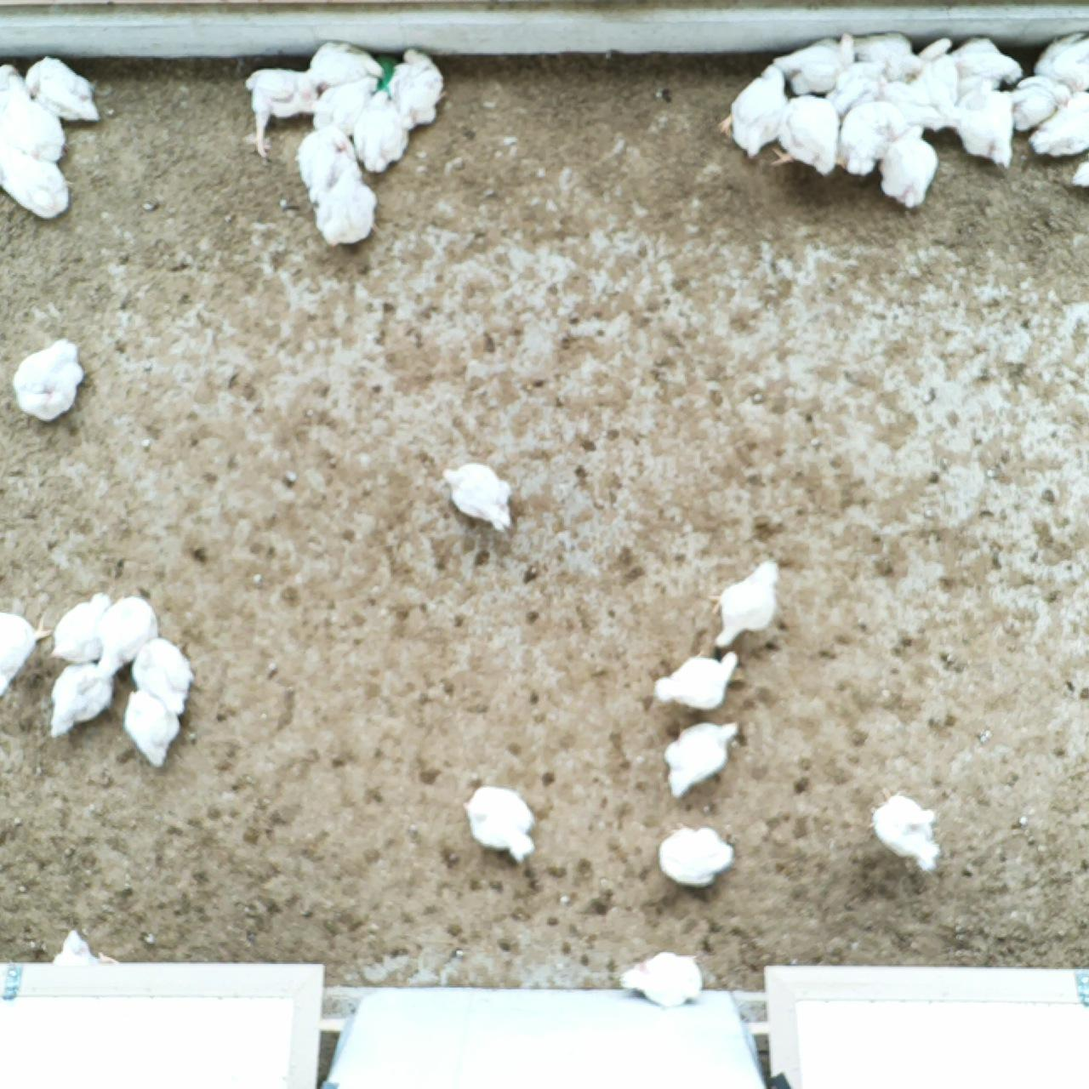chicken: (241, 59, 325, 156), (715, 62, 791, 162), (863, 783, 944, 874), (706, 555, 784, 649), (12, 334, 88, 428), (0, 129, 77, 221), (661, 715, 744, 799), (654, 817, 740, 895), (0, 62, 66, 162), (42, 655, 116, 744), (462, 780, 538, 865), (953, 79, 1019, 170), (22, 54, 103, 128), (837, 99, 910, 180), (877, 123, 941, 214), (94, 592, 164, 675), (773, 94, 842, 178), (439, 458, 516, 533), (651, 648, 741, 712), (47, 586, 116, 669), (769, 30, 858, 94), (312, 165, 379, 249), (386, 43, 452, 128), (619, 945, 705, 1010), (351, 88, 415, 175), (128, 636, 197, 716), (0, 602, 52, 702), (124, 687, 182, 775), (294, 125, 361, 196), (1025, 87, 1089, 158), (307, 72, 382, 132), (955, 35, 1025, 96), (307, 38, 384, 91), (889, 77, 961, 133), (1011, 70, 1076, 132), (823, 57, 890, 111), (1032, 29, 1089, 91), (852, 31, 921, 80), (50, 926, 120, 972)
